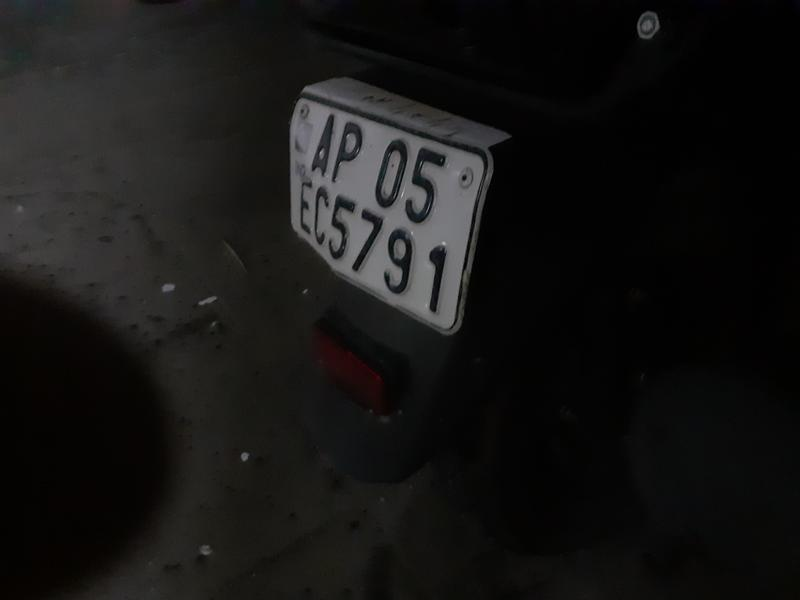numberplate: (289, 93, 485, 334)
